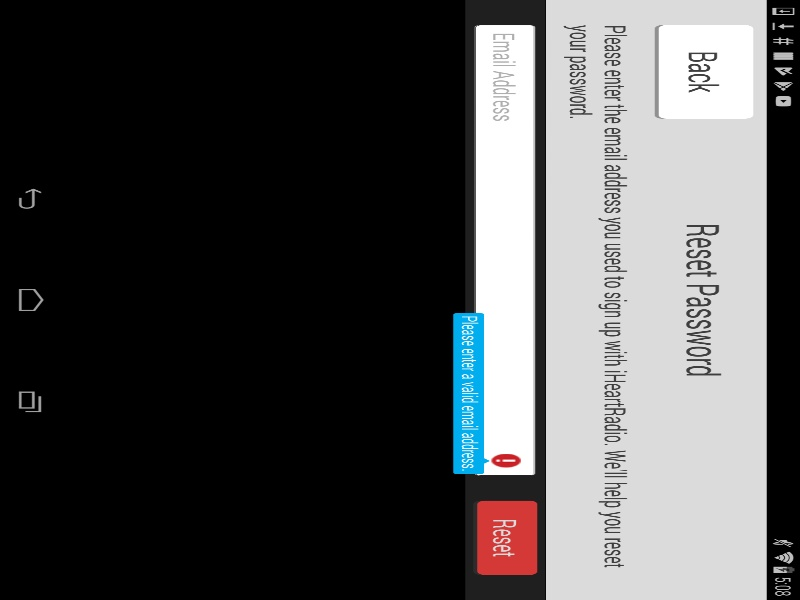Button: (53, 21, 253, 68)
